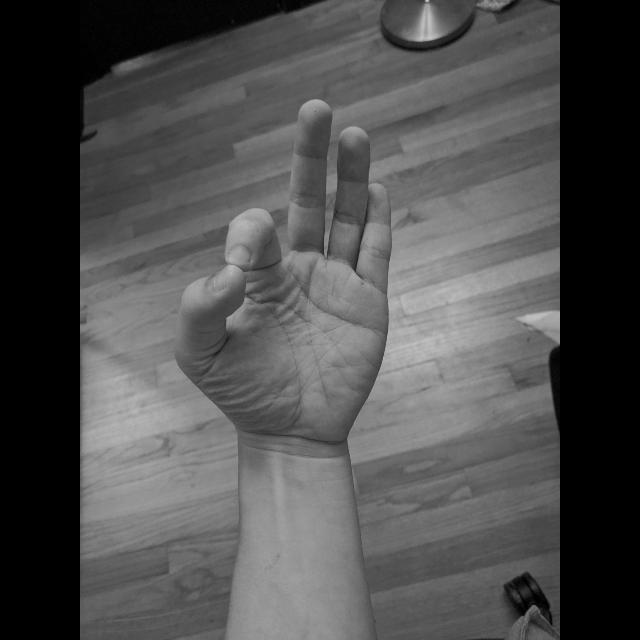F: (170, 92, 396, 448)
